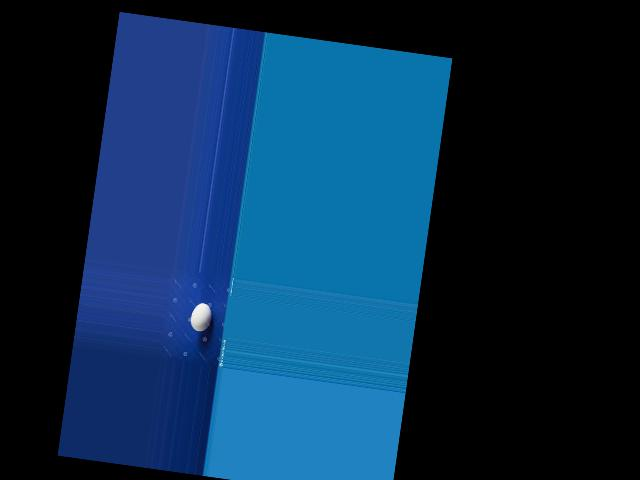egg: (189, 301, 213, 332)
